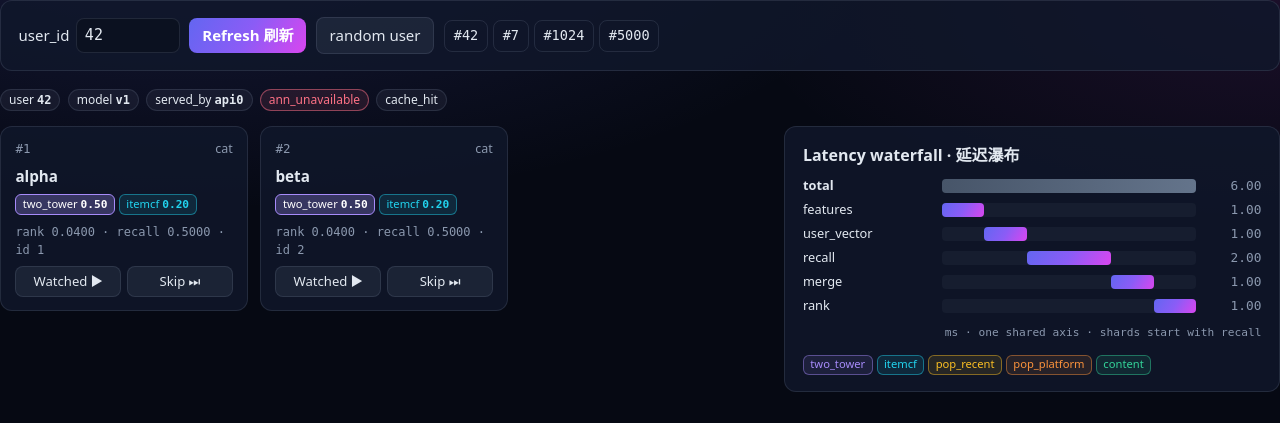
it: Feed › POSTs a watched event, re-fetches, highlights new items and lists dropped ones
Click the button "Watched ▶" below "alpha".
click(68, 281)  # box x1=15 y1=266 x2=121 y2=297
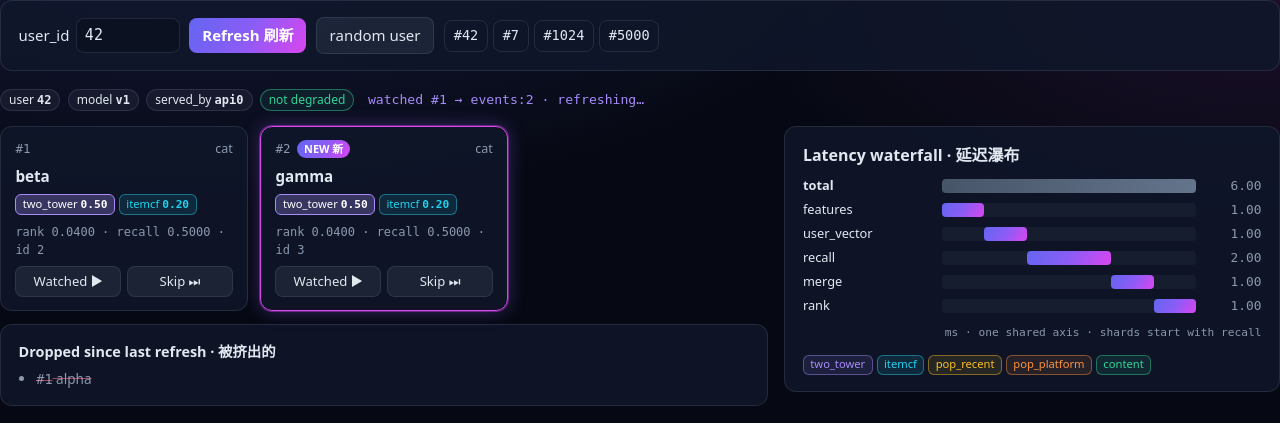
Expected: the list item "alpha" is shown, x1=56 y1=369 x2=92 y2=388
